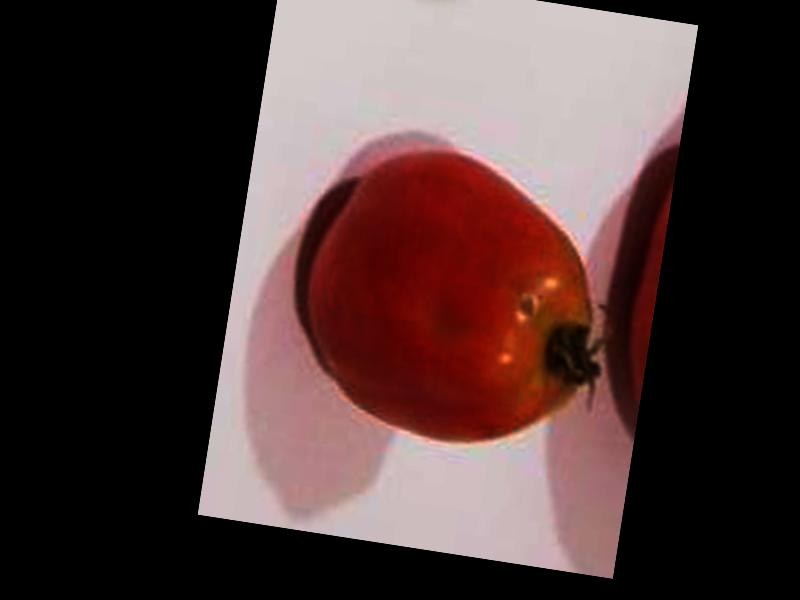Tomato: (294, 136, 617, 459)
